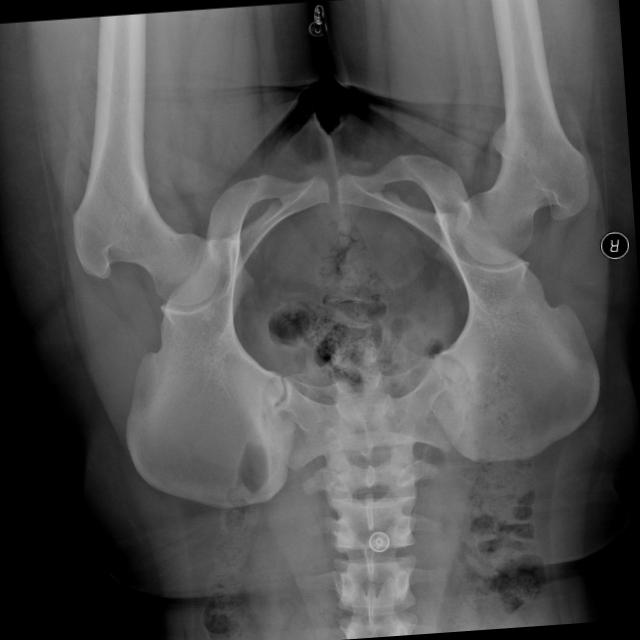normal-left: (72, 12, 220, 305)
normal-right: (455, 0, 589, 263)
